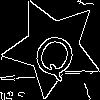Q: (28, 22, 85, 84)
